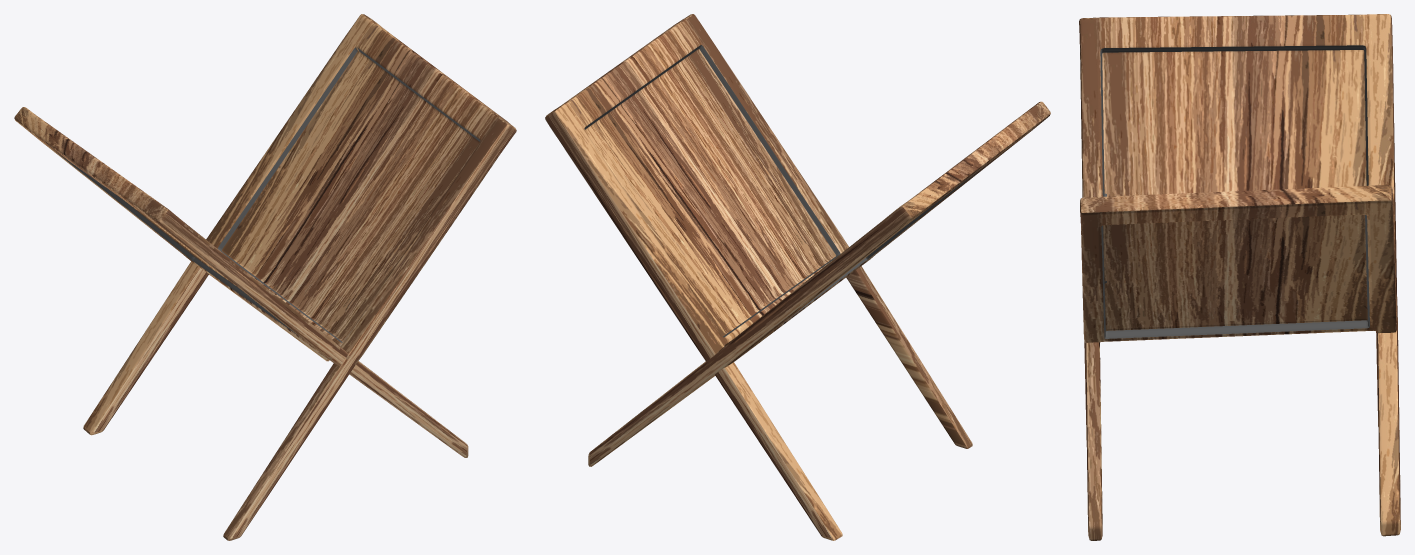
Rendered from TV magazin holder 1.fbx.
3 views of the same model, side by side, from view 1: azimuth 30°, elevation 25°; view 2: azimuth 150°, elevation 25°; view 3: azimuth 270°, elevation 25° (orthographic). The views are drawn at different scales.
Parts seen in each view (by area): view 1: magazine4, magazine3; view 2: magazine4, magazine3; view 3: magazine3, magazine4.
Part boxes in pixels (left/top/right/bottom): magazine4: left=83, top=14, right=516, bottom=540; magazine3: left=14, top=107, right=468, bottom=457; magazine4: left=545, top=14, right=972, bottom=540; magazine3: left=588, top=101, right=1050, bottom=466; magazine3: left=1079, top=14, right=1400, bottom=540; magazine4: left=1080, top=185, right=1396, bottom=439.
Bounding box in the file's own units: 37.4 × 35.59 × 26.03.
